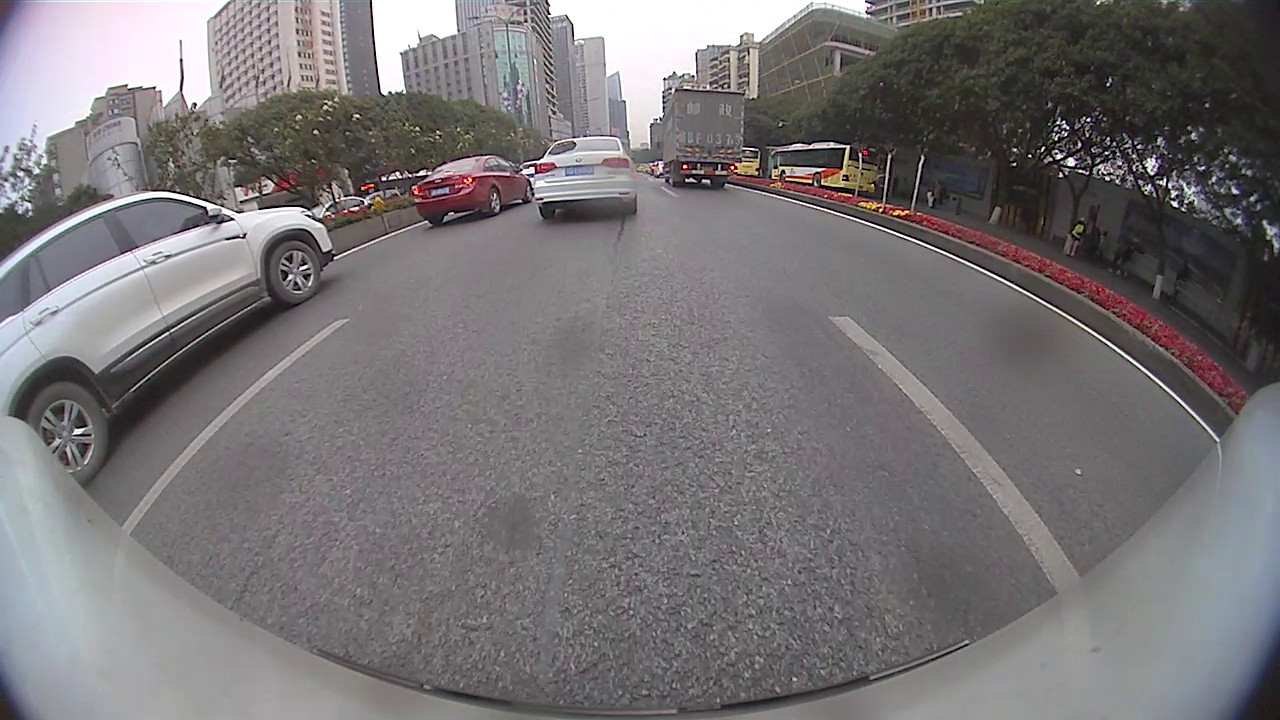bus: (766, 142, 880, 190), (734, 144, 761, 178)
car: (1, 190, 336, 481), (530, 134, 639, 220), (412, 153, 531, 226), (318, 193, 368, 218)
front: (267, 240, 321, 303), (525, 179, 534, 204)
person: (1066, 214, 1084, 261)
rear: (26, 383, 109, 477), (487, 187, 502, 216), (811, 173, 821, 189)
truck: (660, 86, 747, 190)
